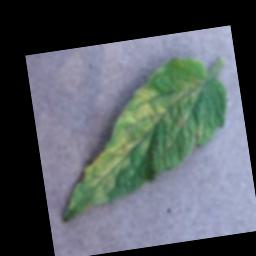Leaf_Mold: (64, 81, 185, 208)
